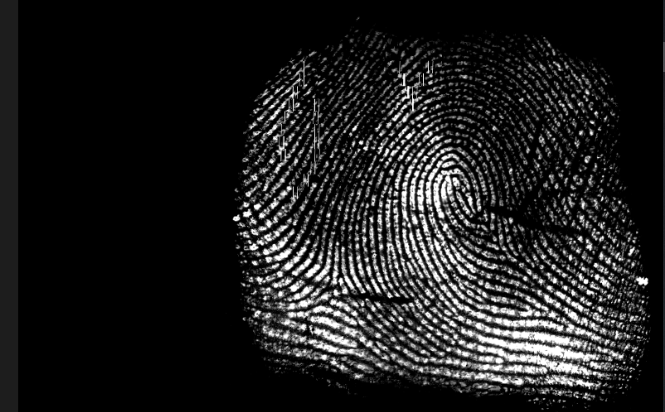deltas: (304, 245, 365, 316), (466, 225, 533, 267)
nucleo: (431, 154, 477, 206)
